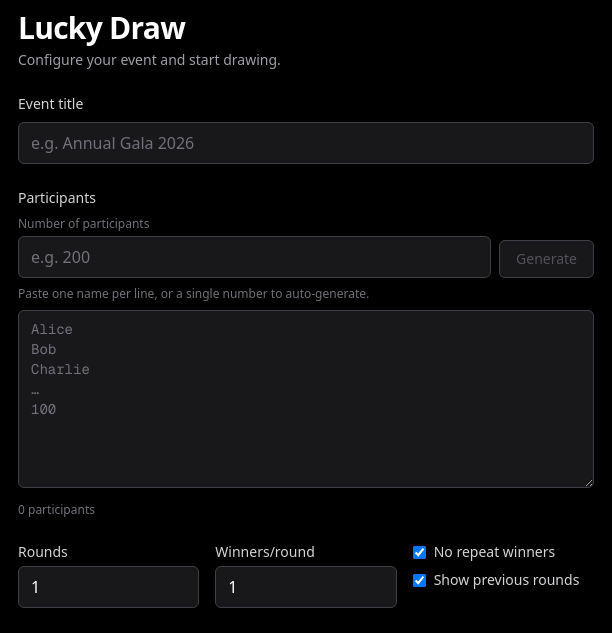
Test case: SetupPage › Generate button fills the participants textarea with 1..N lines
Type "12" into the number field labelled "Number of participants". click: (254, 257)
box: [18, 236, 491, 278]
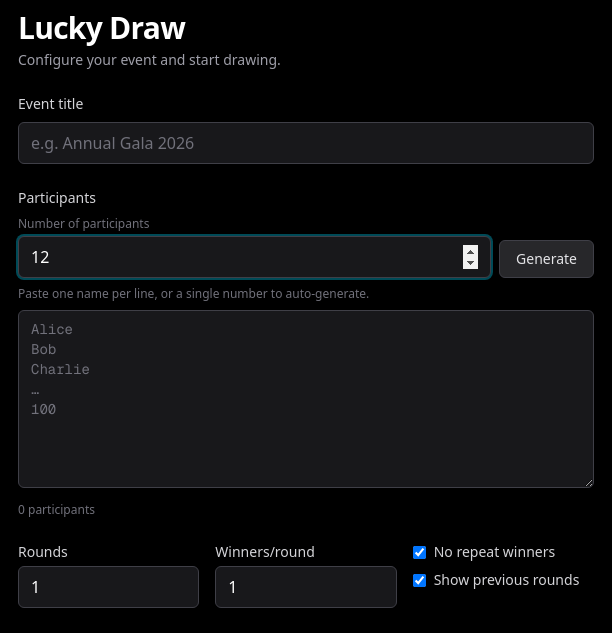
Click the button "Generate". click: (546, 259)
box: [499, 240, 594, 278]
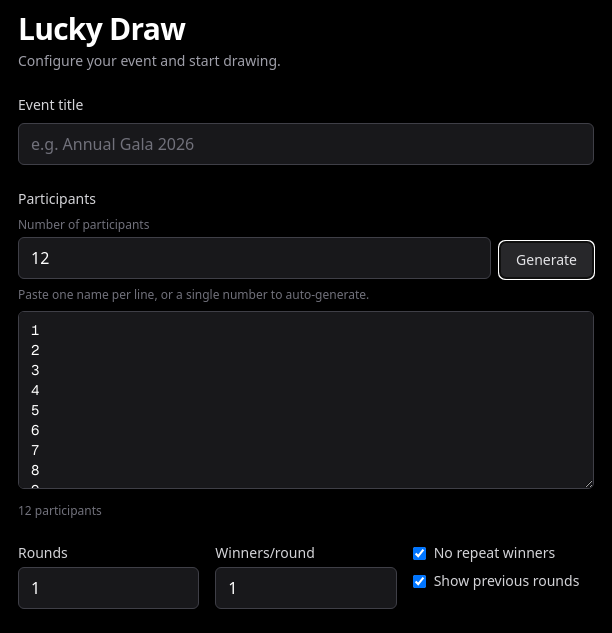
Expected: the text with test id "participant-count" shows "12", [18, 502, 32, 519]
